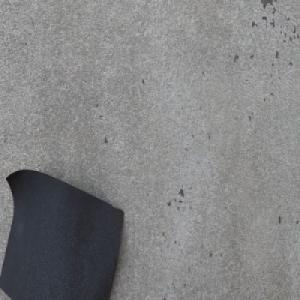PaintChip: (0, 168, 124, 300)
